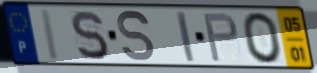I: (39, 7, 62, 62), (174, 9, 197, 64)
O: (240, 10, 285, 66)
P: (201, 11, 241, 63)
S: (115, 8, 157, 64), (69, 9, 111, 62)
